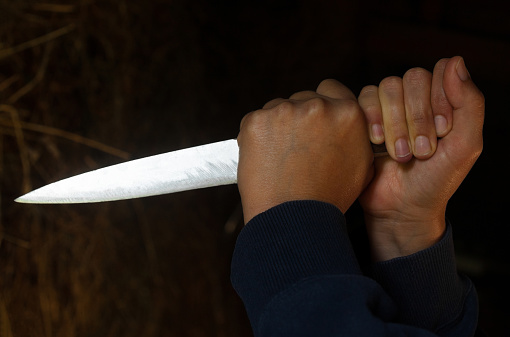knife: (6, 87, 484, 257)
